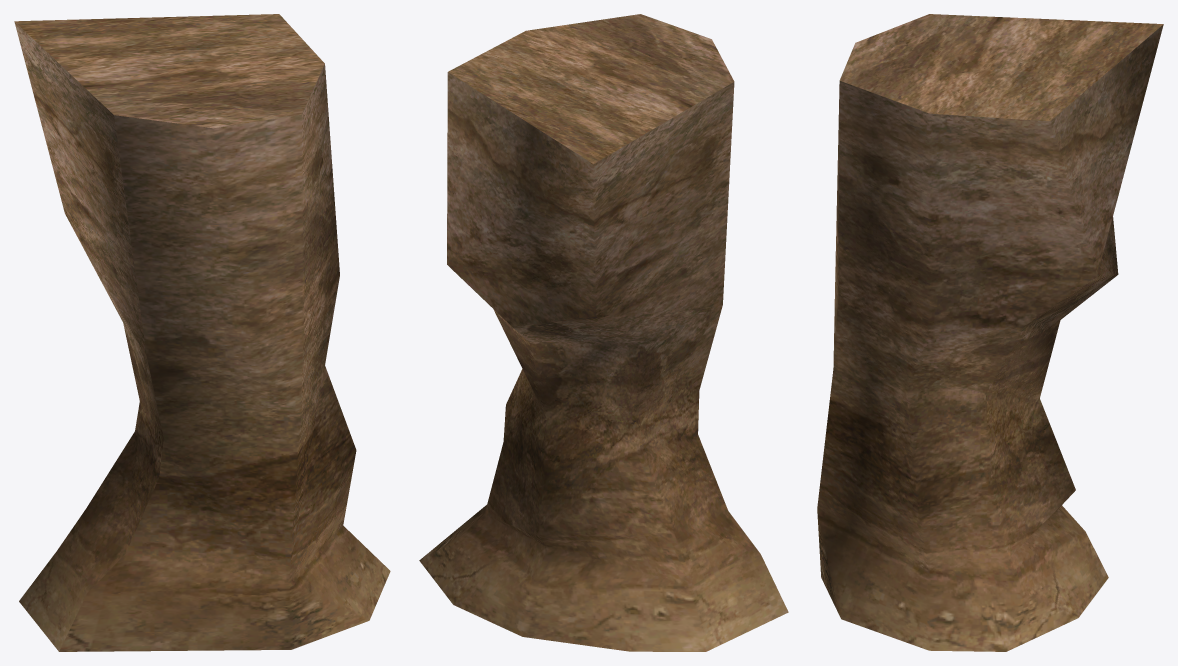
The model's file is dcfx_zz_02.FBX.
3 views of the same model, side by side, from view 1: azimuth 30°, elevation 25°; view 2: azimuth 150°, elevation 25°; view 3: azimuth 270°, elevation 25° (orthographic). The views are drawn at different scales.
Visible parts, largest first — view 1: dcfx_zz_02; view 2: dcfx_zz_02; view 3: dcfx_zz_02.
Boxes of the visible parts, box(x1,y1,x2,y2) form: dcfx_zz_02: box(14, 14, 390, 651); dcfx_zz_02: box(419, 14, 788, 651); dcfx_zz_02: box(817, 14, 1163, 651).
Bounding box in the file's own units: 563 × 843 × 523.
